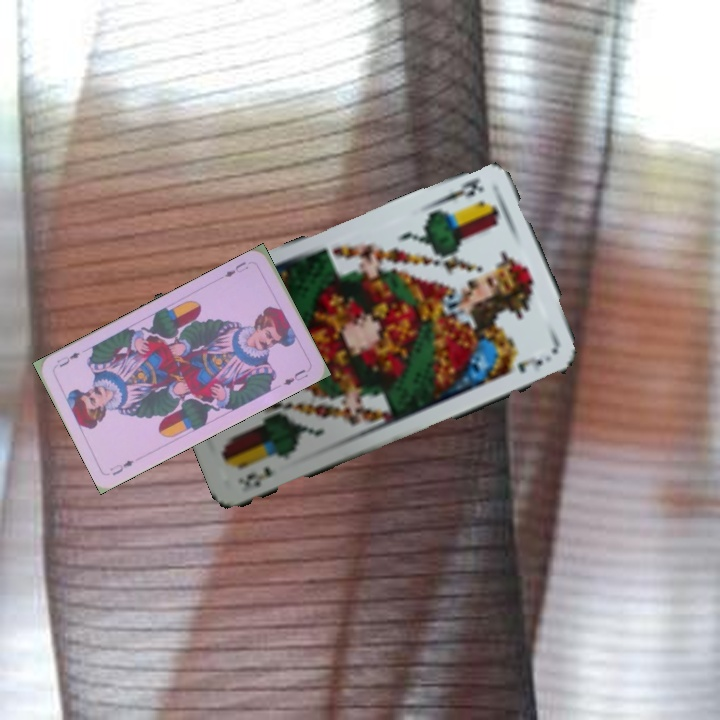EK: (433, 174, 486, 208), (234, 462, 276, 492)
EU: (221, 257, 251, 280), (106, 456, 136, 478)
